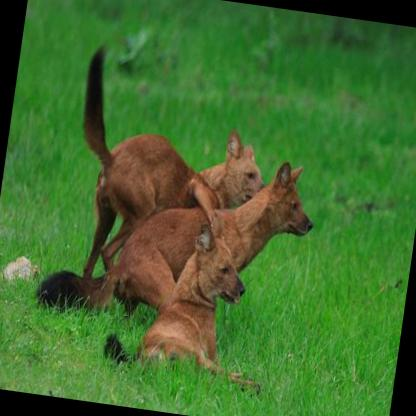dhole: (30, 122, 319, 342), (58, 41, 284, 306), (100, 199, 282, 391)
